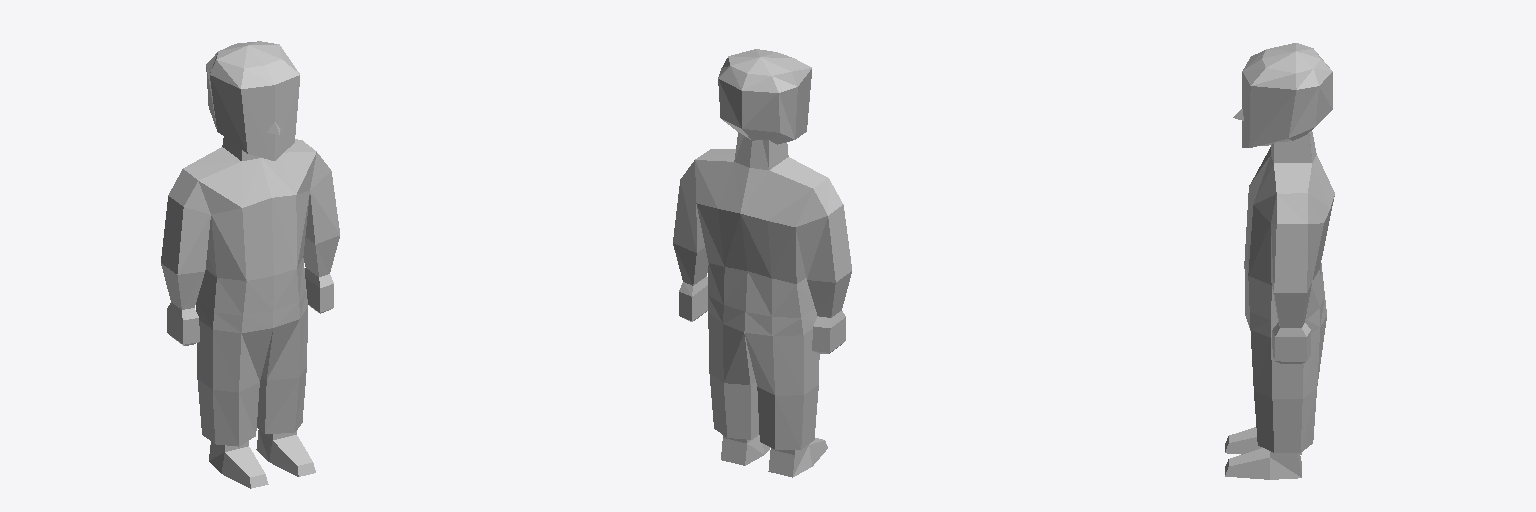
File: human.obj
3 renders of one model, left to right at view 1: azimuth 30°, elevation 25°; view 2: azimuth 150°, elevation 25°; view 3: azimuth 270°, elevation 25°, orthographic.
Visible parts, largest first — view 1: Human_Circle; view 2: Human_Circle; view 3: Human_Circle.
Part boxes in pixels (left/top/right/bottom): Human_Circle: left=161, top=41, right=339, bottom=488; Human_Circle: left=673, top=49, right=851, bottom=477; Human_Circle: left=1225, top=43, right=1334, bottom=479.
Size of the model in its own units: 3.46 by 8.29 by 2.03.